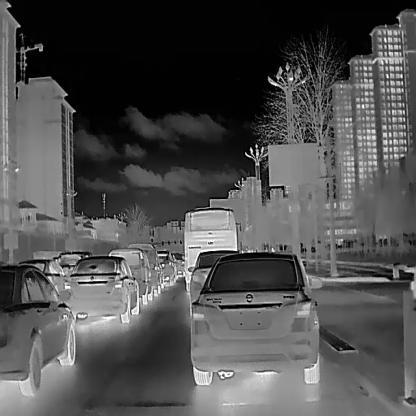car: (185, 251, 322, 387), (1, 263, 76, 396), (63, 252, 141, 323), (183, 205, 239, 294), (185, 249, 242, 315), (107, 247, 153, 305), (18, 257, 68, 294), (128, 243, 163, 292)
